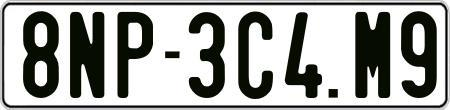3: (186, 9, 222, 98)
4: (282, 9, 319, 96)
8: (22, 11, 60, 100)
9: (401, 9, 437, 102)
C: (236, 10, 277, 97)
M: (353, 11, 390, 99)
N: (70, 9, 105, 99)
P: (114, 11, 155, 101)
